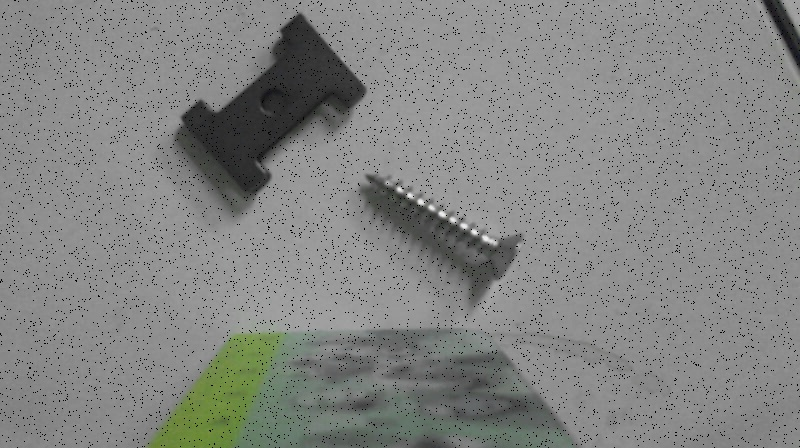O002: (178, 10, 371, 197)
S001: (352, 168, 530, 287)
